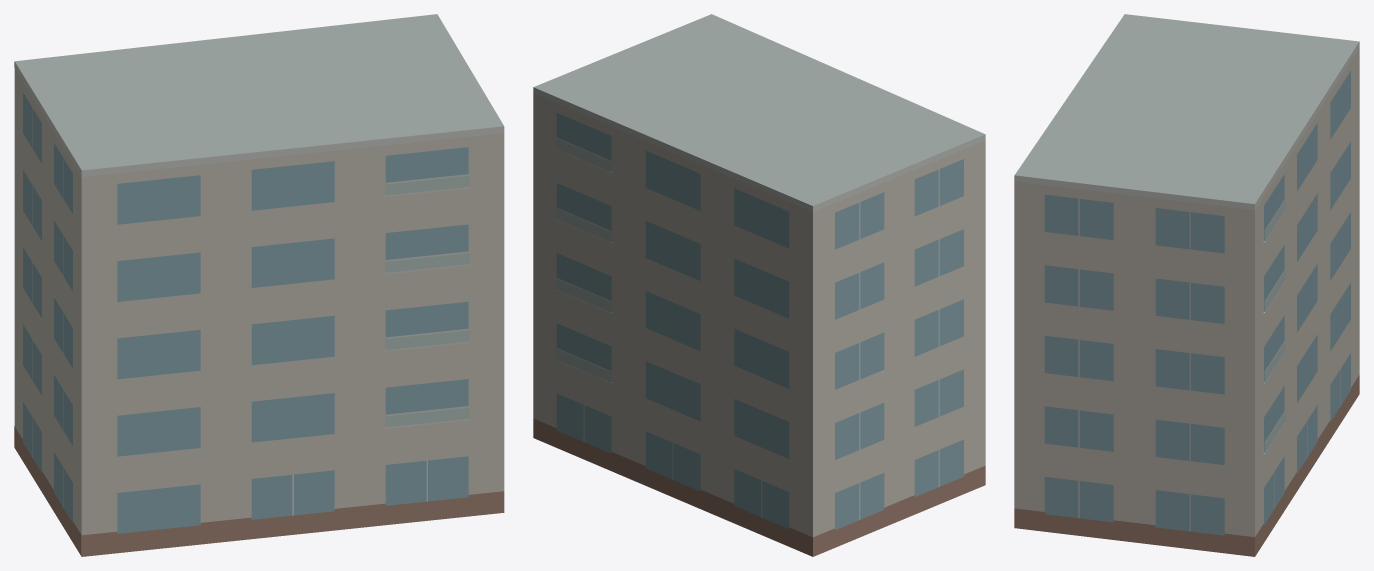
The model's file is survey-upis-32876166.glb.
3 renders of one model, left to right at view 1: azimuth 30°, elevation 25°; view 2: azimuth 150°, elevation 25°; view 3: azimuth 270°, elevation 25°, orthographic. The views are drawn at different scales.
Visible parts, largest first — view 1: survey-upis-32876166.tmp; view 2: survey-upis-32876166.tmp; view 3: survey-upis-32876166.tmp.
Part boxes in pixels (x1,y1,x2,y2): survey-upis-32876166.tmp: [14, 14, 504, 556]; survey-upis-32876166.tmp: [533, 14, 985, 556]; survey-upis-32876166.tmp: [1014, 14, 1359, 556].
Bounding box in the file's own units: 16.6 × 14.35 × 12.73.
